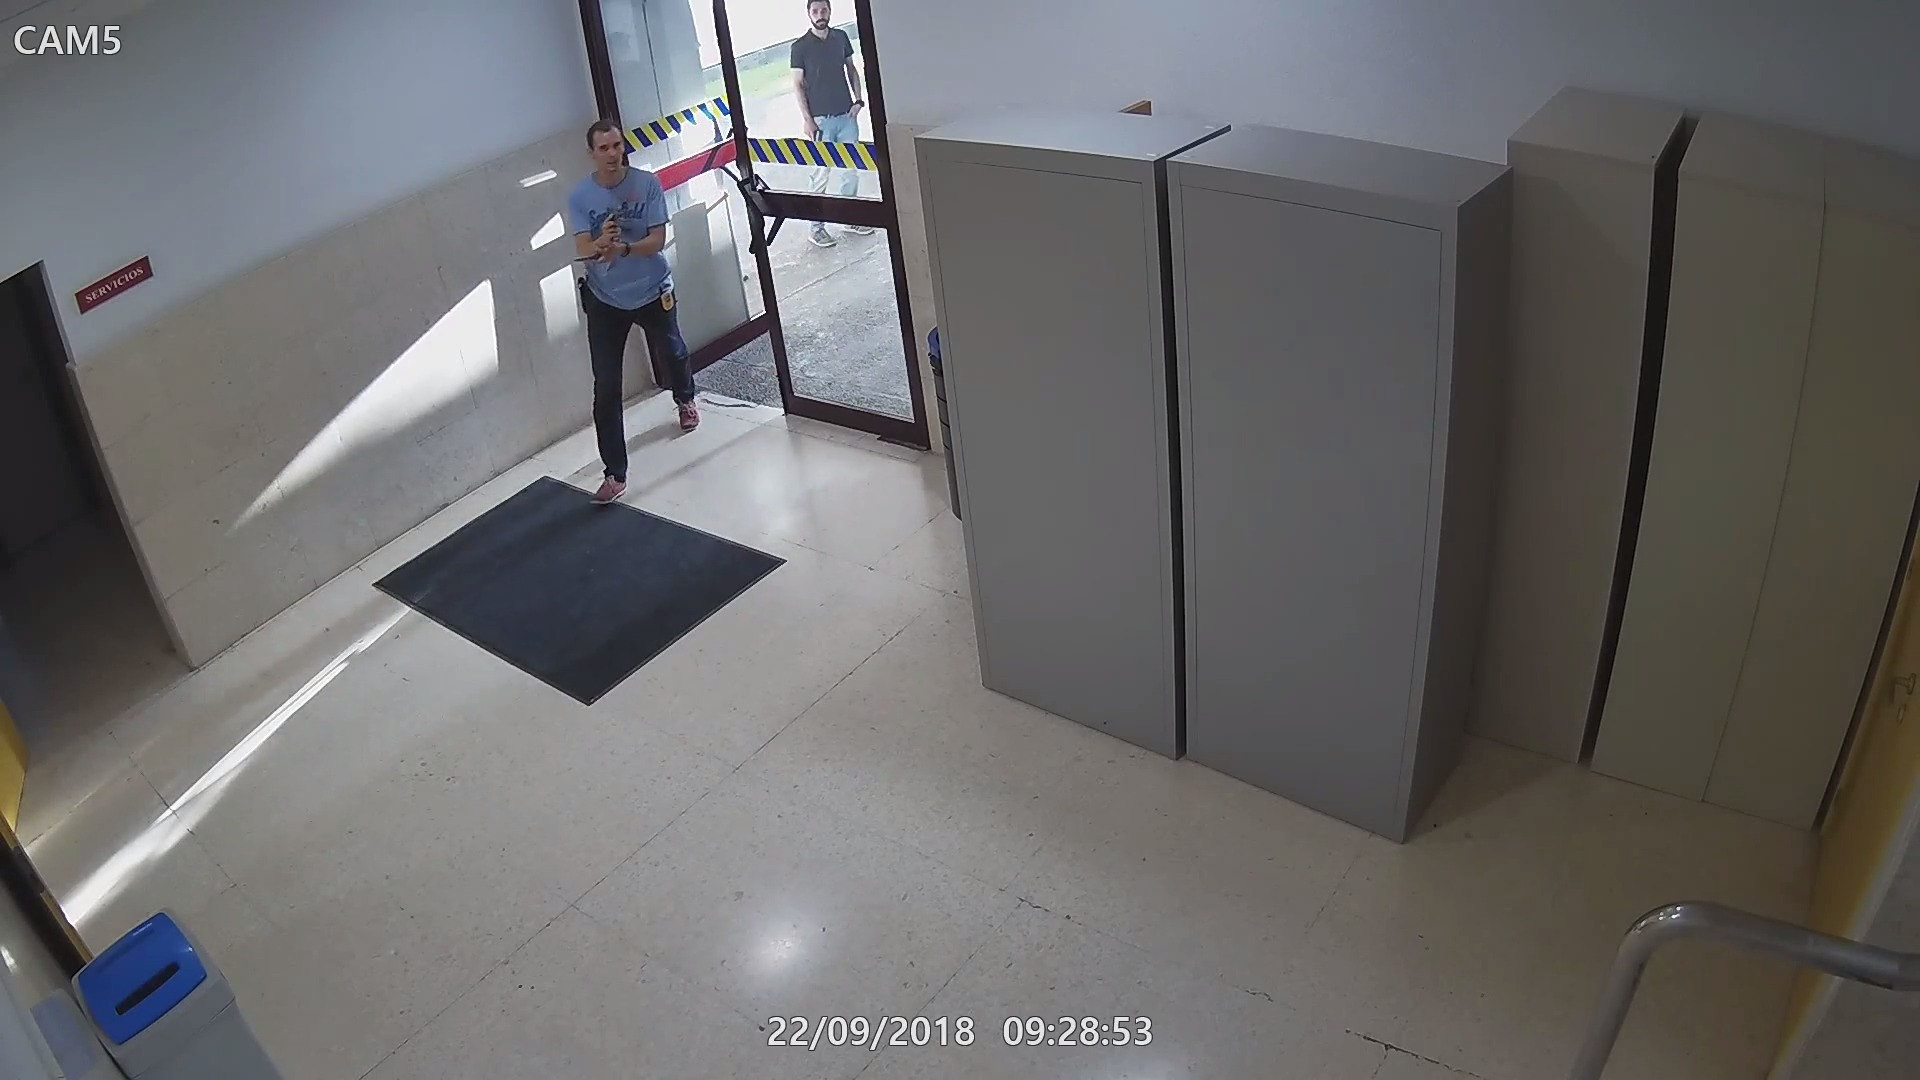Handgun: (600, 207, 633, 244)
Knife: (568, 239, 628, 266)
